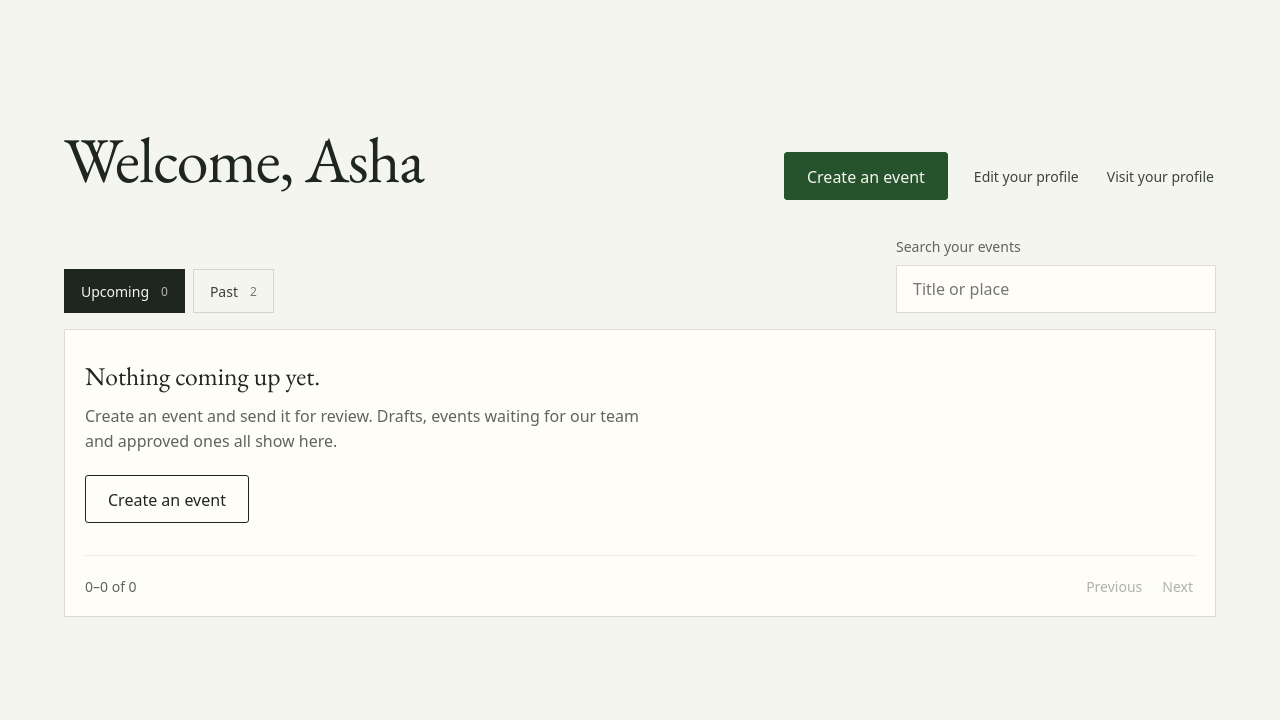
it: Past is date by date, no parts: what was held, and what was called off
Click the tab "Past 2" at [233, 292], box [193,270,274,314]
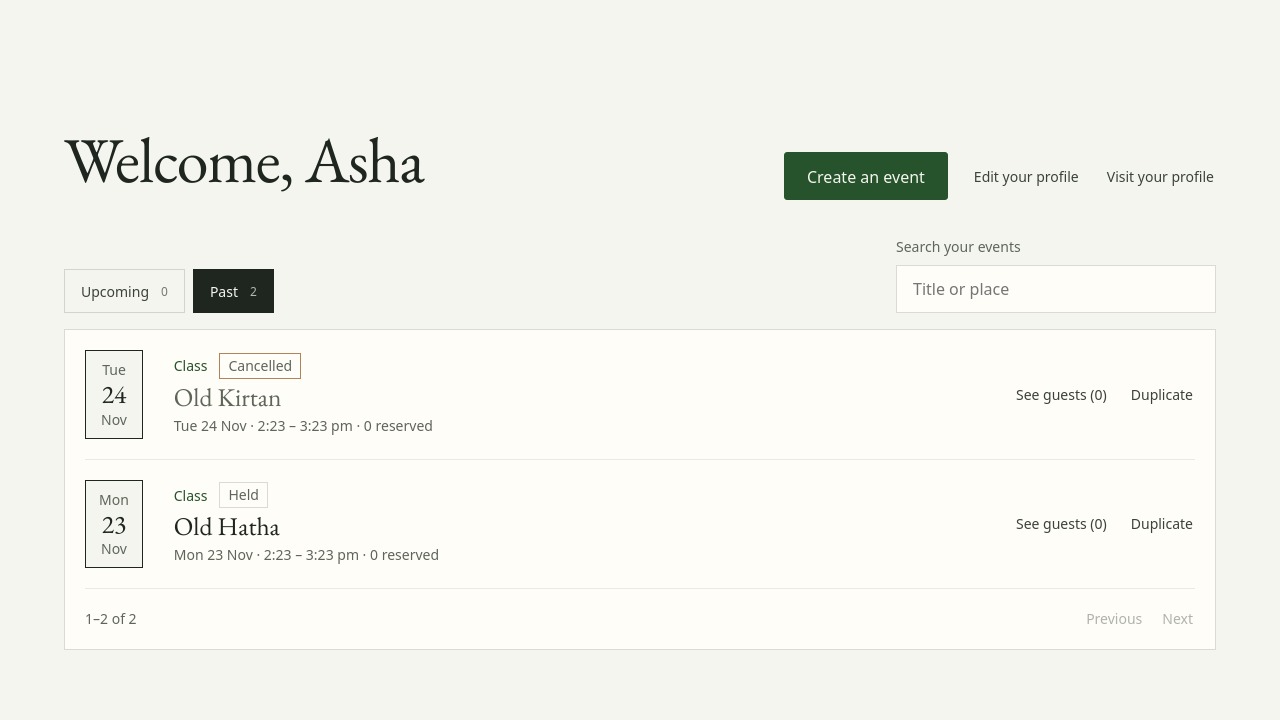
Expected: the text with class "sn-status" reads "Held", [228,485,259,504]
Expected: the text with class "sn-status" reads "Cancelled", [228,356,292,375]
